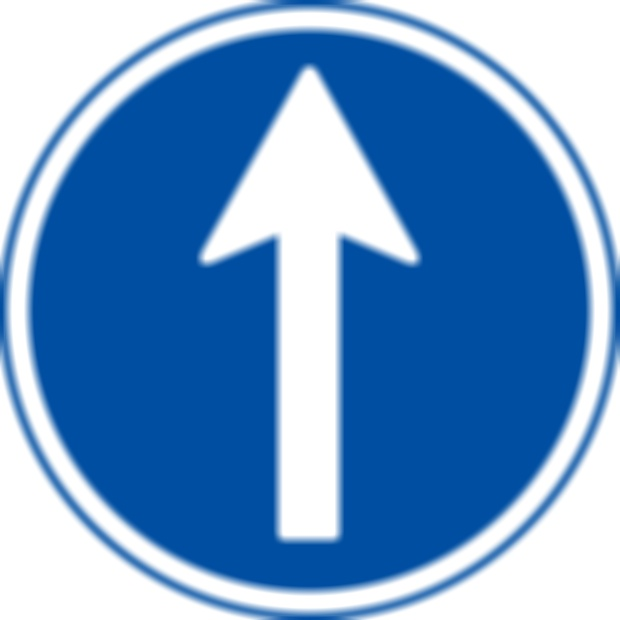Direction_sign: (7, 5, 620, 614)
